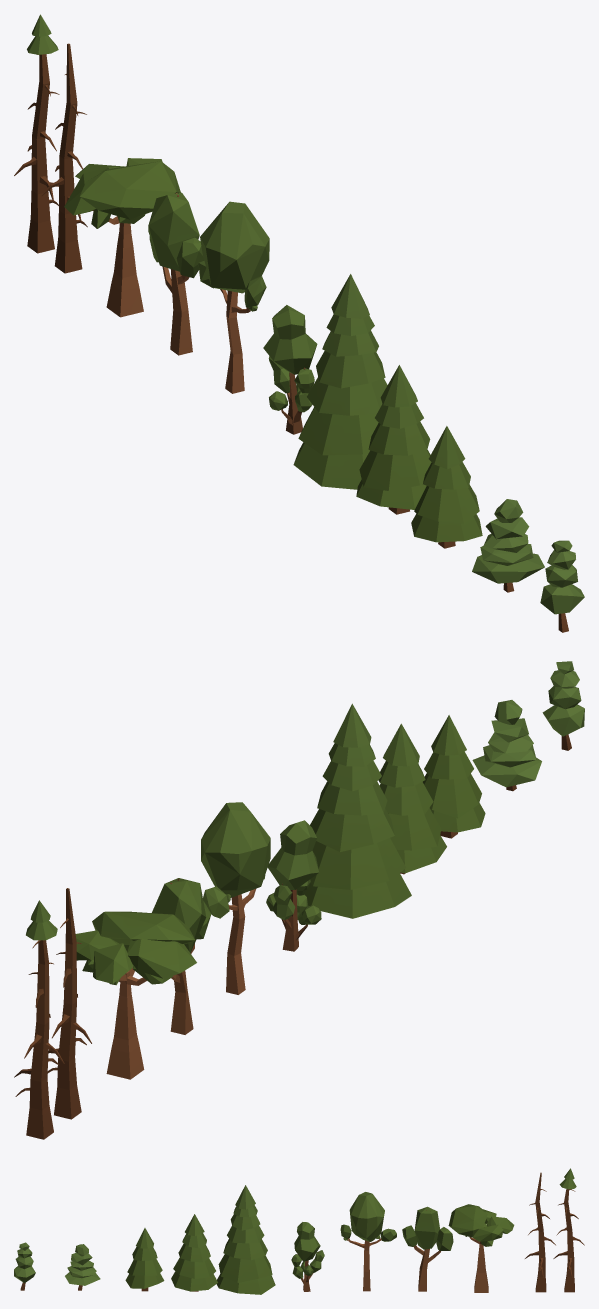
Rendered from low poly trees for itch.glb.
3 views of the same model, one above another, from view 1: azimuth 30°, elevation 25°; view 2: azimuth 150°, elevation 25°; view 3: azimuth 270°, elevation 25° (orthographic). The views are drawn at different scales.
Visible parts, largest first — view 1: Big pine, bottle tree, Medium pine, Regular tree, Small pine, W branch tree, 4 split branch tree, partly dead straight tree, Straight sphere pine, Dead straight tree, Straight sphere tree; view 2: Big pine, bottle tree, Regular tree, Medium pine, Small pine, 4 split branch tree, partly dead straight tree, Straight sphere pine, Dead straight tree, W branch tree, Straight sphere tree; view 3: Big pine, bottle tree, Medium pine, Regular tree, W branch tree, Small pine, 4 split branch tree, partly dead straight tree, Straight sphere pine, Dead straight tree, Straight sphere tree.
Boxes of the visible parts, x1=… form: Big pine: x1=293, y1=274, x2=387, y2=489; bottle tree: x1=64, y1=158, x2=180, y2=317; Medium pine: x1=356, y1=365, x2=431, y2=514; Regular tree: x1=198, y1=201, x2=269, y2=393; Small pine: x1=411, y1=426, x2=482, y2=548; W branch tree: x1=148, y1=192, x2=204, y2=355; 4 split branch tree: x1=263, y1=305, x2=317, y2=434; partly dead straight tree: x1=14, y1=14, x2=59, y2=253; Straight sphere pine: x1=472, y1=499, x2=544, y2=592; Dead straight tree: x1=41, y1=43, x2=93, y2=273; Straight sphere tree: x1=540, y1=540, x2=584, y2=632; Big pine: x1=304, y1=703, x2=411, y2=918; bottle tree: x1=75, y1=911, x2=196, y2=1079; Regular tree: x1=201, y1=802, x2=270, y2=994; Medium pine: x1=378, y1=723, x2=446, y2=874; Small pine: x1=423, y1=715, x2=485, y2=838; 4 split branch tree: x1=266, y1=820, x2=321, y2=951; partly dead straight tree: x1=14, y1=900, x2=64, y2=1139; Straight sphere pine: x1=472, y1=700, x2=541, y2=791; Dead straight tree: x1=47, y1=888, x2=91, y2=1119; W branch tree: x1=152, y1=878, x2=211, y2=1034; Straight sphere tree: x1=542, y1=661, x2=584, y2=750; Big pine: x1=216, y1=1185, x2=275, y2=1294; bottle tree: x1=448, y1=1204, x2=514, y2=1292; Medium pine: x1=171, y1=1214, x2=217, y2=1291; Regular tree: x1=340, y1=1192, x2=396, y2=1291; W branch tree: x1=402, y1=1206, x2=453, y2=1291; Small pine: x1=125, y1=1228, x2=164, y2=1291; 4 split branch tree: x1=291, y1=1222, x2=324, y2=1291; partly dead straight tree: x1=553, y1=1168, x2=584, y2=1292; Straight sphere pine: x1=65, y1=1244, x2=100, y2=1290; Dead straight tree: x1=525, y1=1172, x2=555, y2=1292; Straight sphere tree: x1=14, y1=1242, x2=35, y2=1290.
Size of the model in its own units: 2.35 by 4.69 by 19.91.
1 material, 1 textured.
